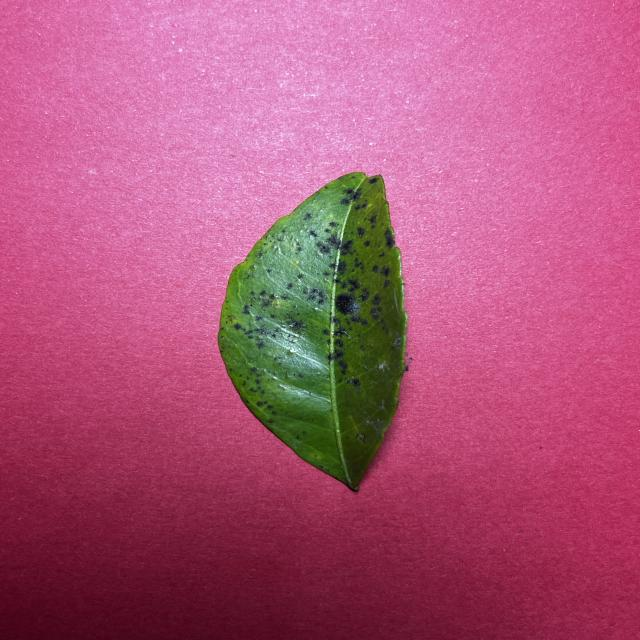sooty_mold: (219, 172, 406, 480)
